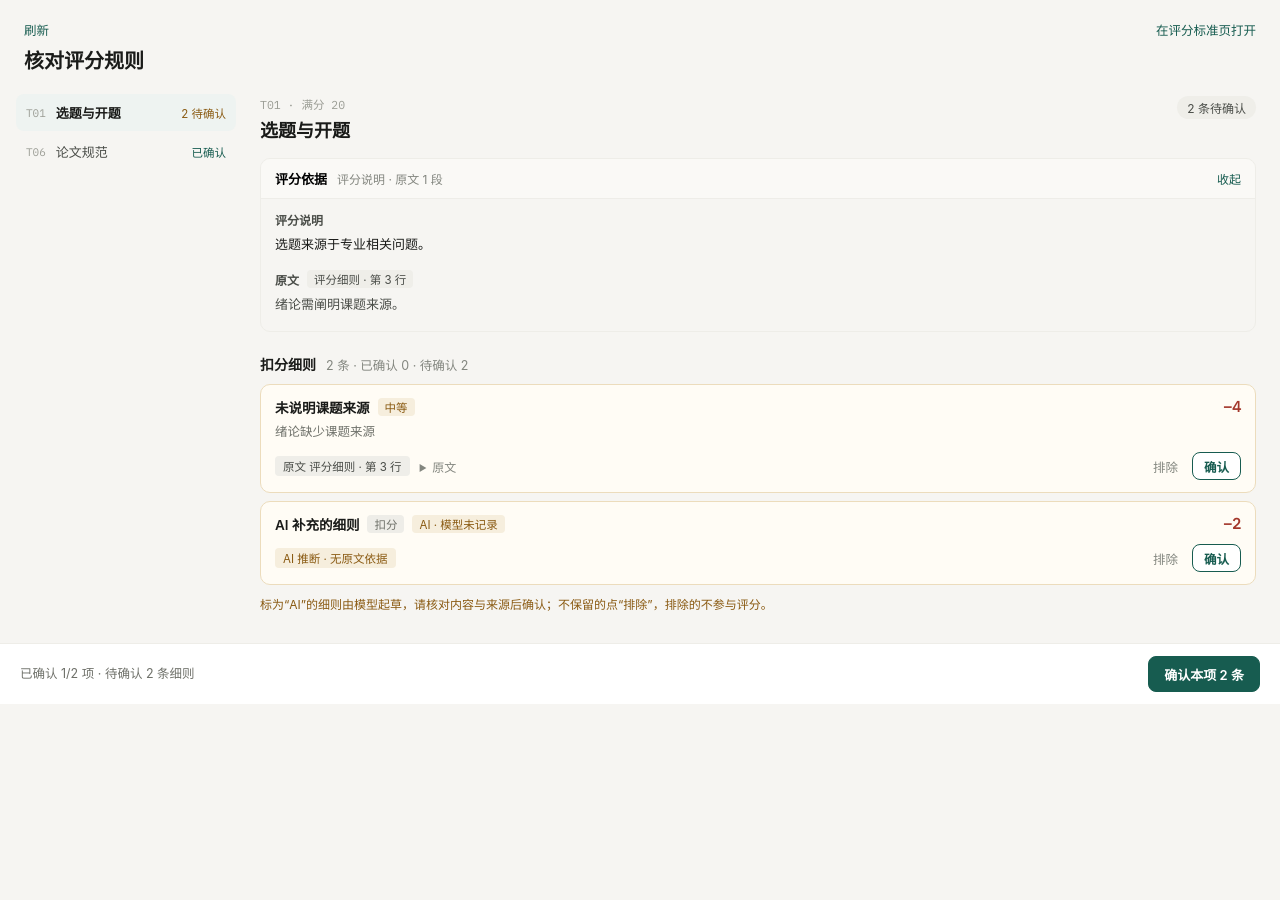
Scenario: 排除即时保存：排除后显示“已排除 · 恢复”、不算待确认；每个评分项至少保留 1 条
Check: the button with test id "review-primary" reads "确认本项 2 条", box [1148,656,1260,692]
Click the button "排除" in the row of "AI 推断 · 无原文依据": click(1166, 558) [1153,548,1178,568]
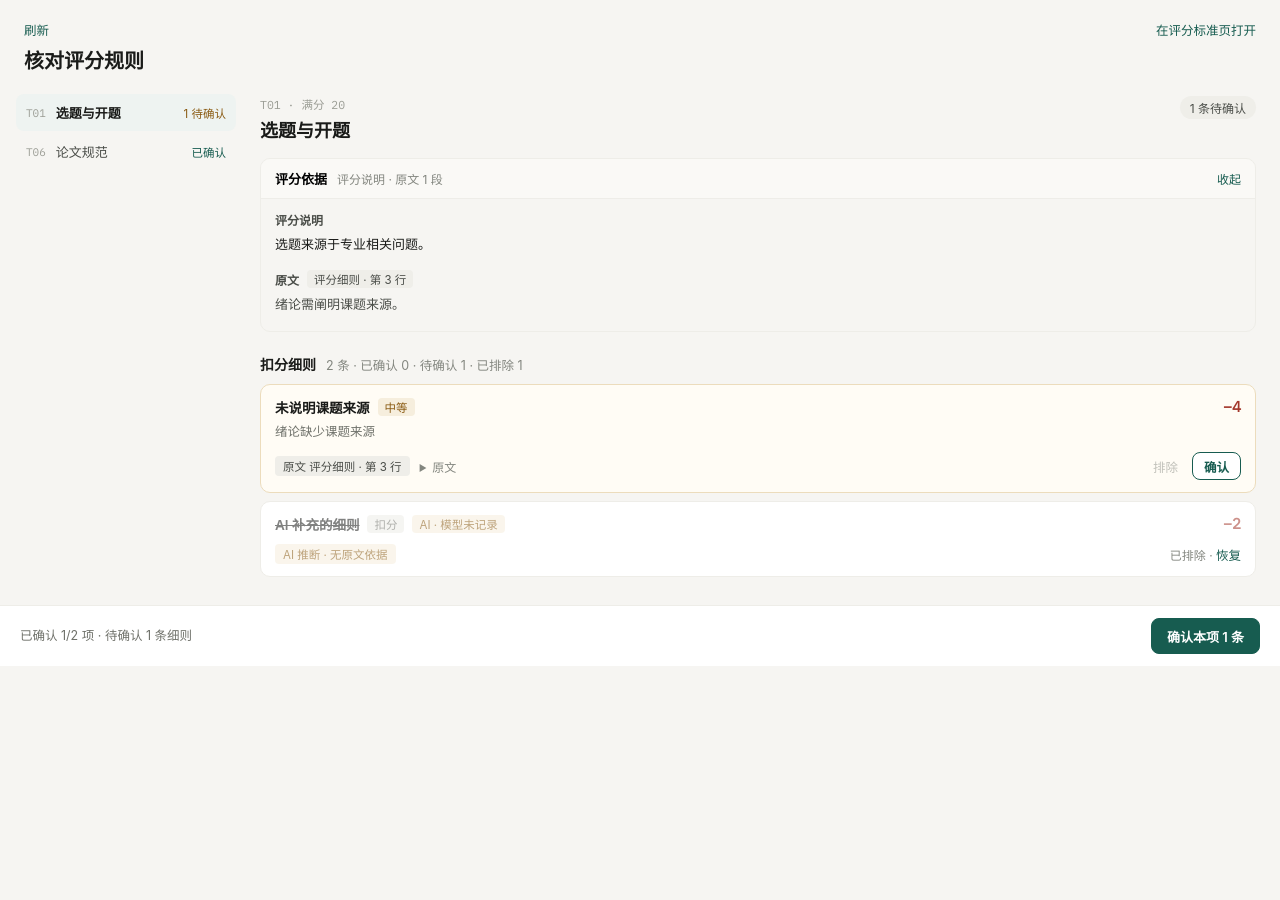
Check: the element with class "sec-head" shows "已排除 1", box [326,358,523,373]
Check: the button with test id "review-primary" reads "确认本项 1 条", box [1151,618,1260,654]
Click the button "恢复": click(1228, 554) [1216,544,1241,564]
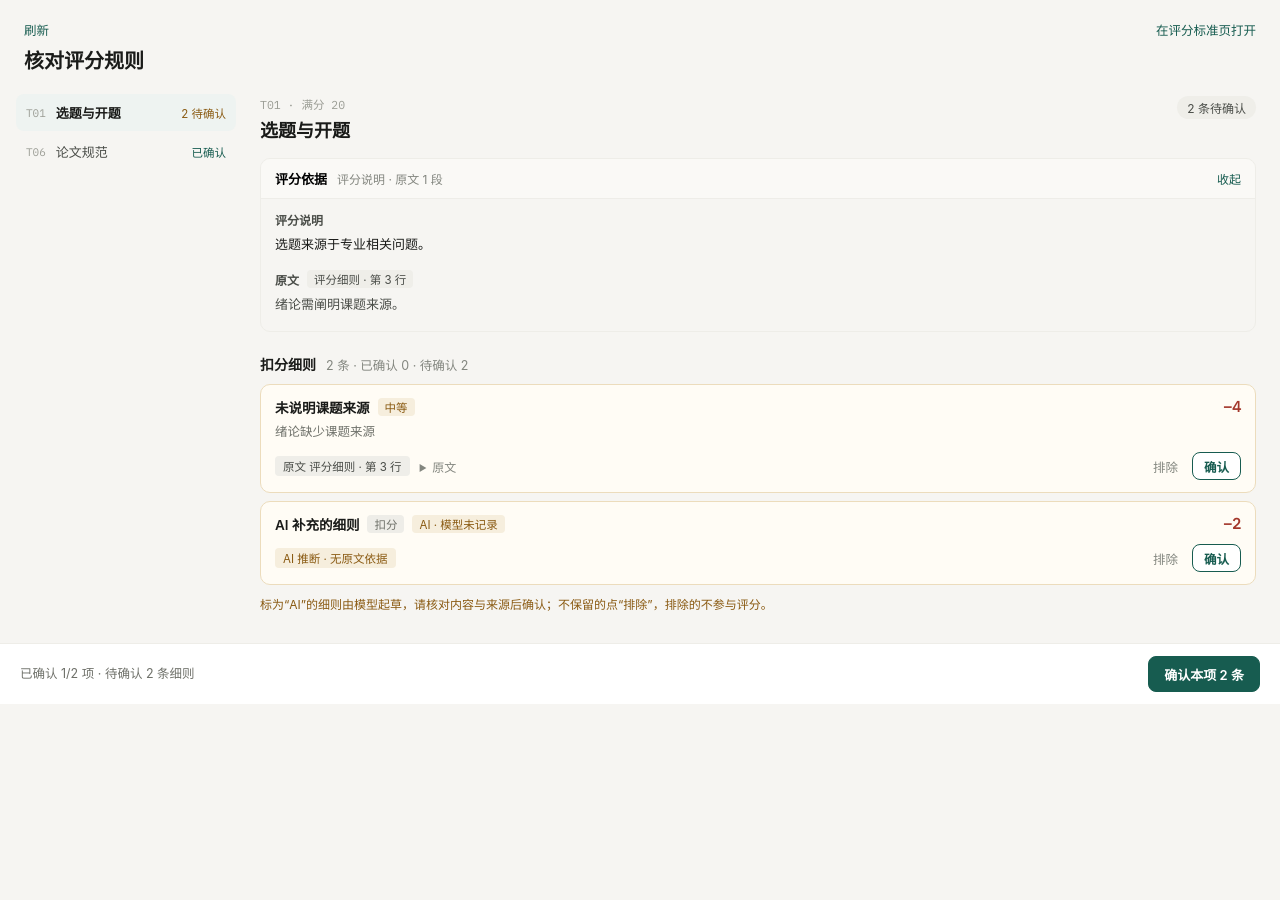
Check: the button with test id "review-primary" reads "确认本项 2 条", box [1148,656,1260,692]
